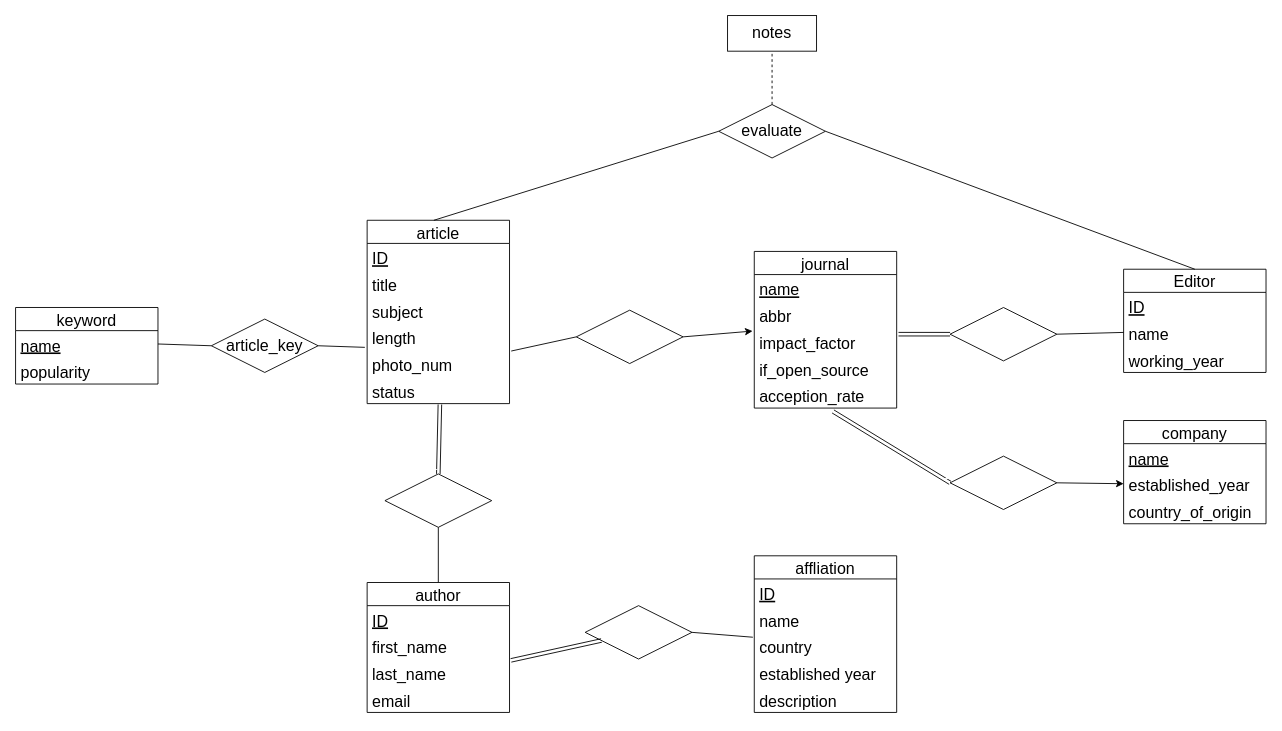
Some shapes in this 1282 by 731 pixel diagram are drawn without their labels. Here are the shapes that lost their labels. From the top down, the centre of each, then its label:
At (629,336): "publishing".
At (1003,334): "journal_editor".
At (438,500): "writing".
At (1003,482): "owned".
At (638,632): "employer".
